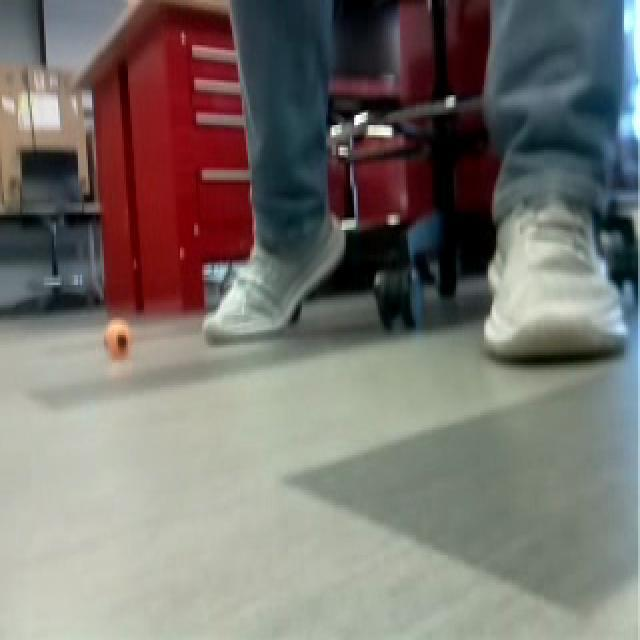oball: (99, 313, 132, 360)
